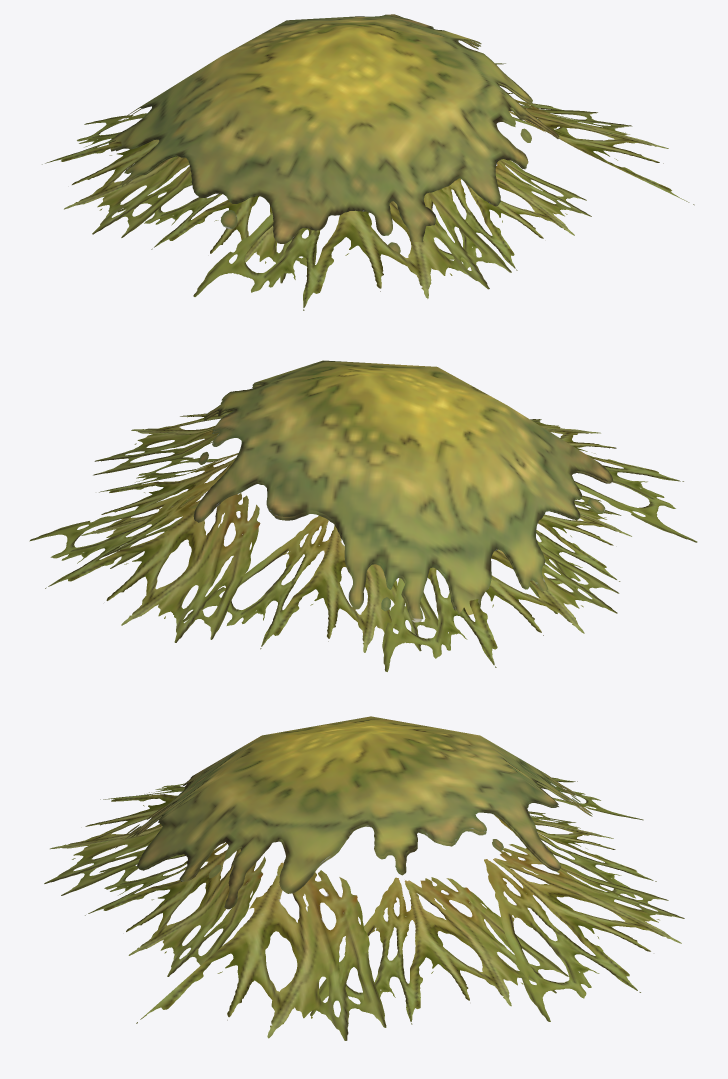
The model's file is 2_Plant_KuoYeCao_02.FBX.
3 views of the same model, one above another, from view 1: azimuth 30°, elevation 25°; view 2: azimuth 150°, elevation 25°; view 3: azimuth 270°, elevation 25° (orthographic). The views are drawn at different scales.
Parts seen in each view (by area): view 1: 2_Plant_KuoYeCao_03; view 2: 2_Plant_KuoYeCao_03; view 3: 2_Plant_KuoYeCao_03.
Part boxes in pixels (left/top/right/bottom): 2_Plant_KuoYeCao_03: left=42, top=14, right=694, bottom=310; 2_Plant_KuoYeCao_03: left=29, top=360, right=697, bottom=671; 2_Plant_KuoYeCao_03: left=44, top=716, right=684, bottom=1040.
Bounding box in the file's own units: 496 × 134 × 484.
Materials: 1 (1 with a texture image).
